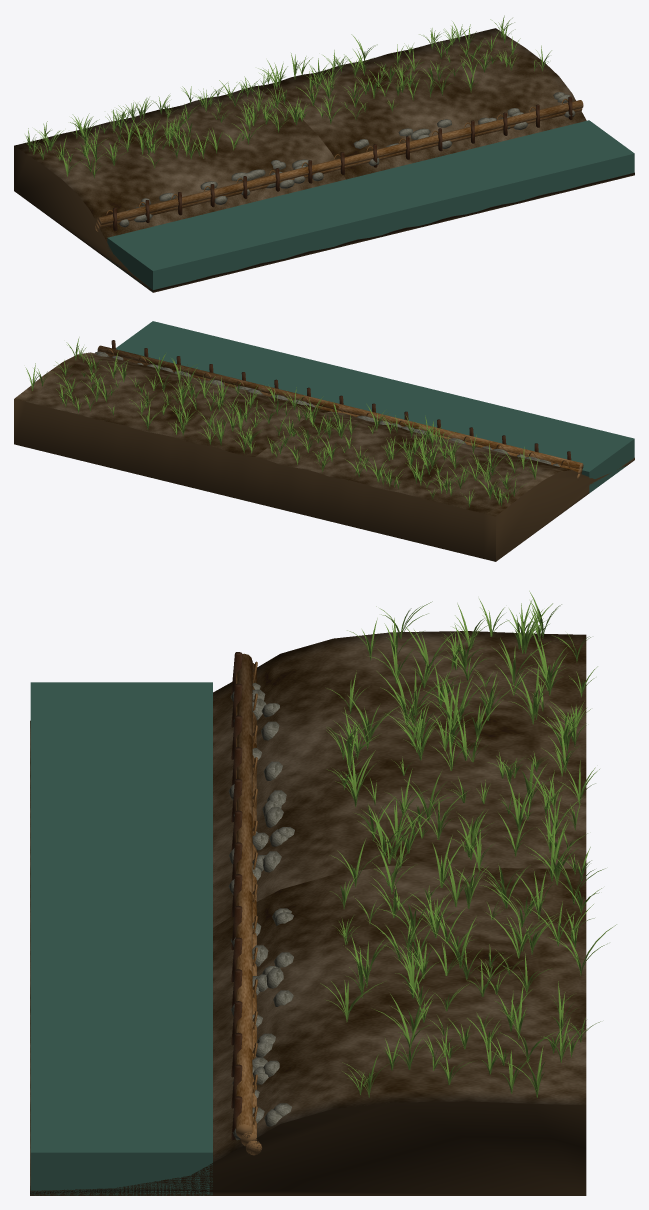
The model's file is KL_LS_Backwater_Bank_8m.gltf.
3 views of the same model, one above another, from view 1: azimuth 30°, elevation 25°; view 2: azimuth 150°, elevation 25°; view 3: azimuth 270°, elevation 25° (orthographic). The views are drawn at different scales.
Visible parts, largest first — view 1: TF3_KL_LS_Backwater_Bank_8m; view 2: TF3_KL_LS_Backwater_Bank_8m; view 3: TF3_KL_LS_Backwater_Bank_8m.
Boxes of the visible parts, x1,y1,x2,y2 form: TF3_KL_LS_Backwater_Bank_8m: [14, 15, 634, 292]; TF3_KL_LS_Backwater_Bank_8m: [14, 321, 634, 561]; TF3_KL_LS_Backwater_Bank_8m: [30, 591, 616, 1195].
Size of the model in its own units: 8.19 by 1.12 by 4.23.
Materials: 6 (4 with a texture image).
